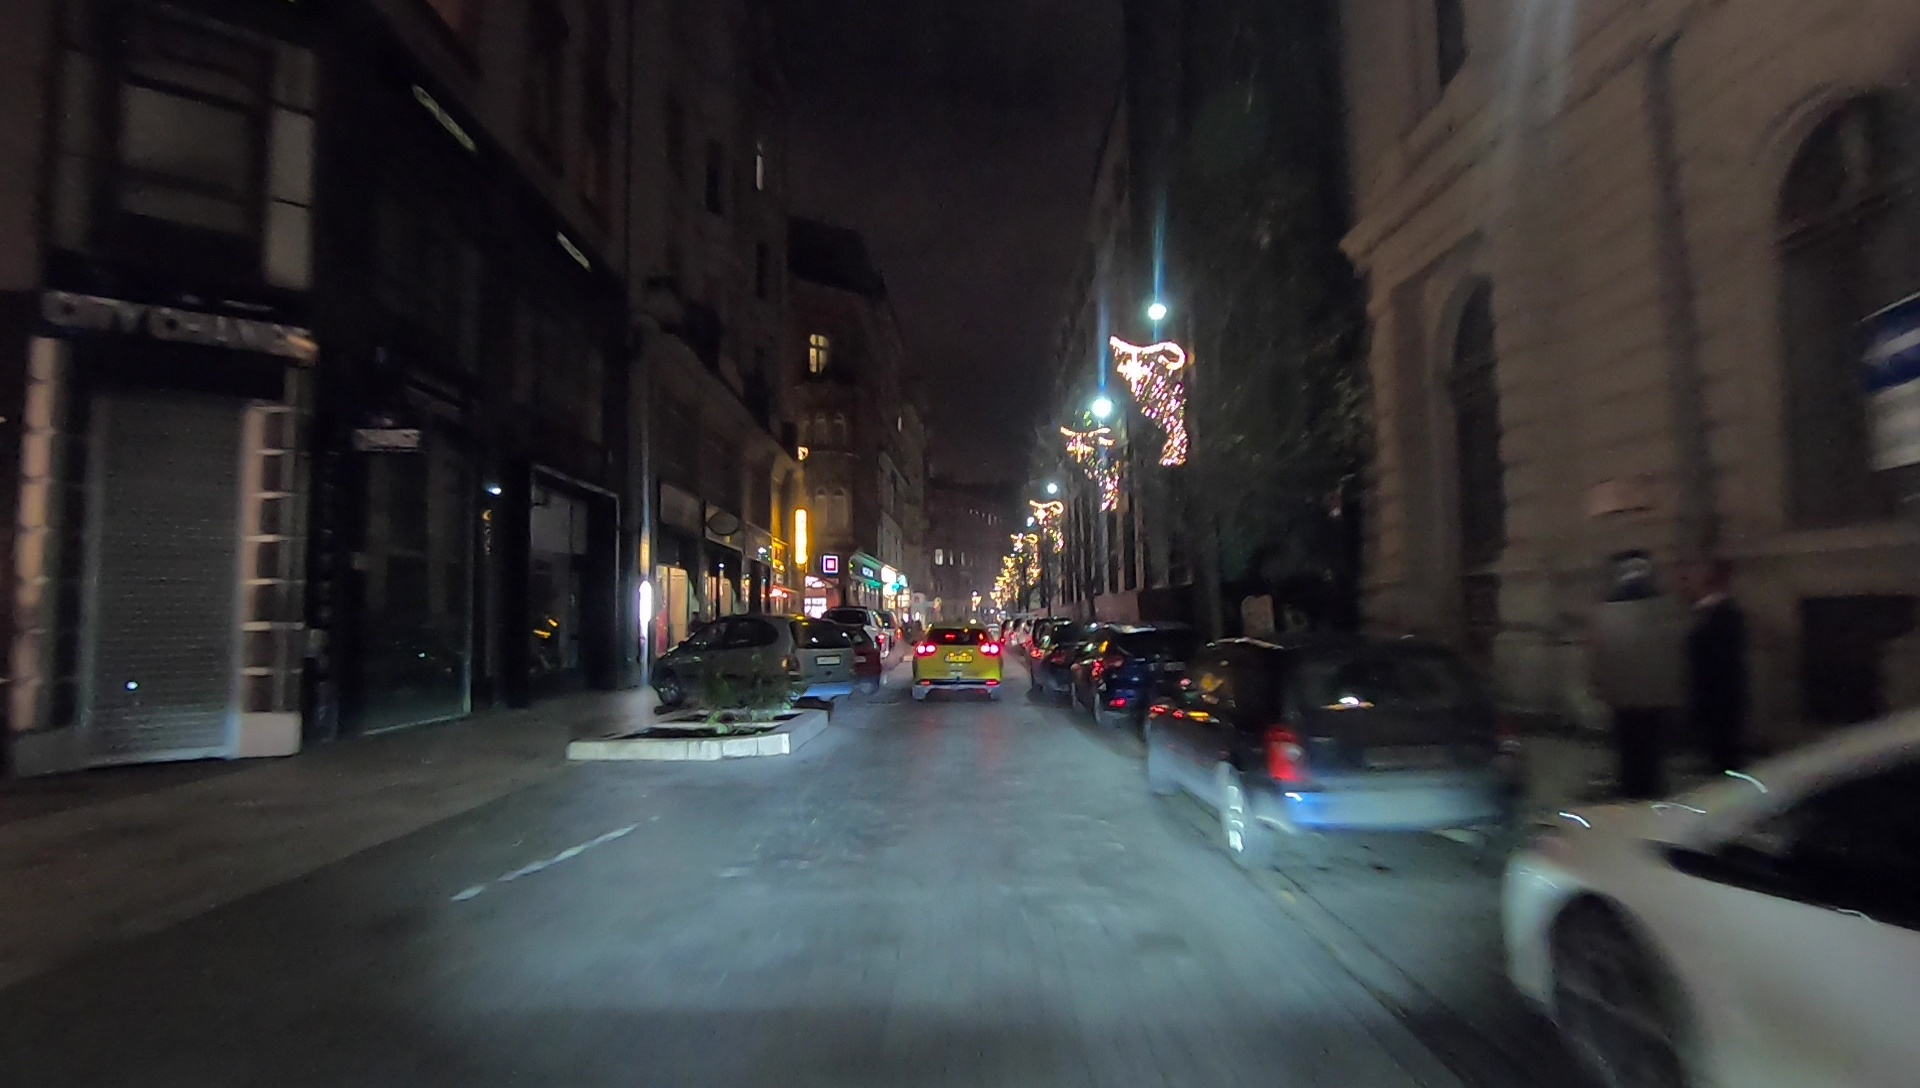person: (1684, 560, 1751, 800)
